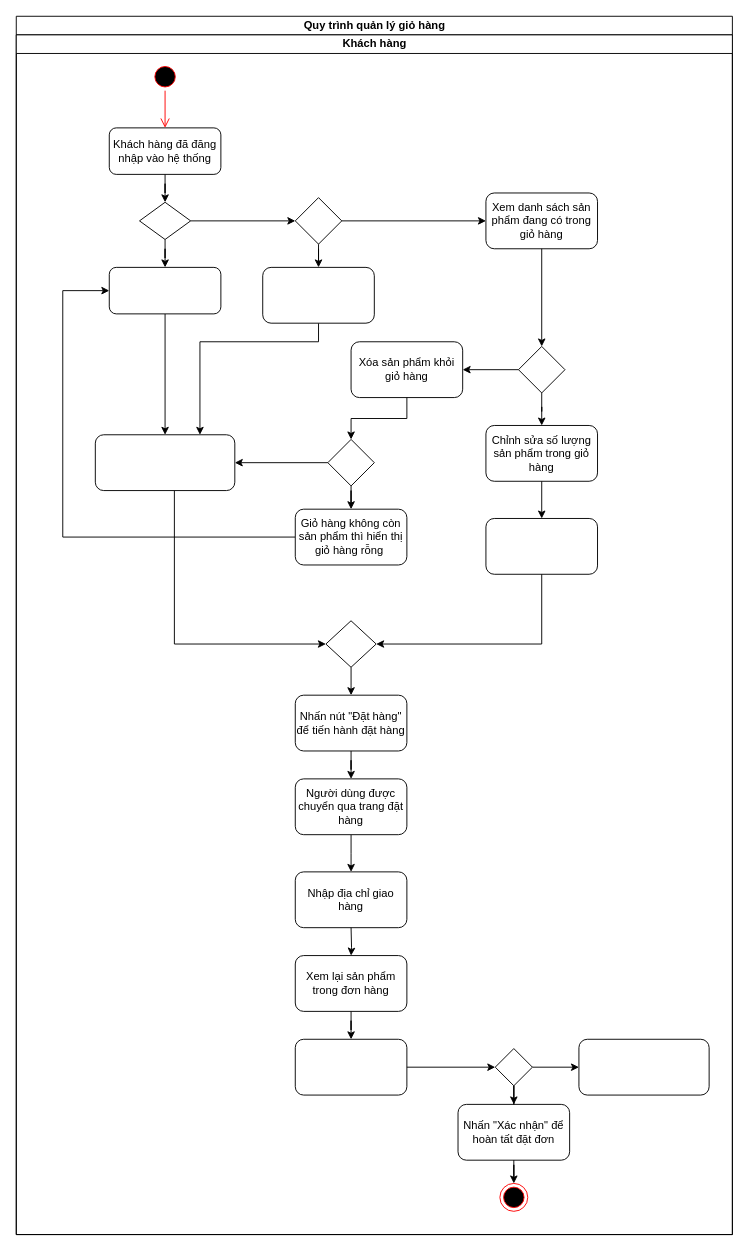
Some shapes in this 749 by 1251 pixel diagram are drawn without their labels. Here are the shapes that lost their labels. From the top down, the centre of each, then its label:
At pixel 164 290: "Thêm sản phẩm vào giỏ hàng từ trang chủ".
At pixel 318 294: "Thêm sản phẩm vào giỏ hàng từ trang chi tiết sản phẩm".
At pixel 164 462: "Cập nhật lại danh sách sản phẩm trong giỏ hàng".
At pixel 541 546: "Cập nhật giá tiền, số lượng sản phẩm trong giỏ hàng".
At pixel 350 1066: "Hình thức thanh toán bằng tiền mặt".
At pixel 643 1066: "Khách muốn chỉnh sửa số lượng sản phẩm, hoặc đổi sản phẩm muốn mua".
